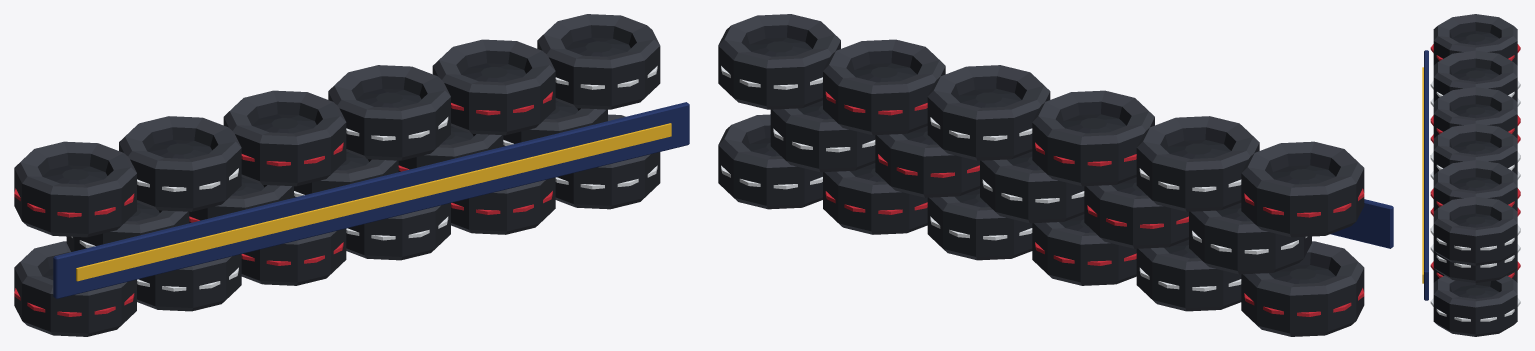
The model's file is TireWall.fbx.
The picture shows the model from 3 angles, left to right: view 1: azimuth 30°, elevation 25°; view 2: azimuth 150°, elevation 25°; view 3: azimuth 270°, elevation 25°; orthographic projection. The views are drawn at different scales.
Parts seen in each view (by area): view 1: TireWall; view 2: TireWall; view 3: TireWall.
Boxes of the visible parts, x1,y1,x2,y2 form: TireWall: (14,14,689,336); TireWall: (718,14,1393,336); TireWall: (1422,14,1520,336).
Size of the model in its own units: 16 by 3.6 by 3.
Materials: 1 (1 with a texture image).
